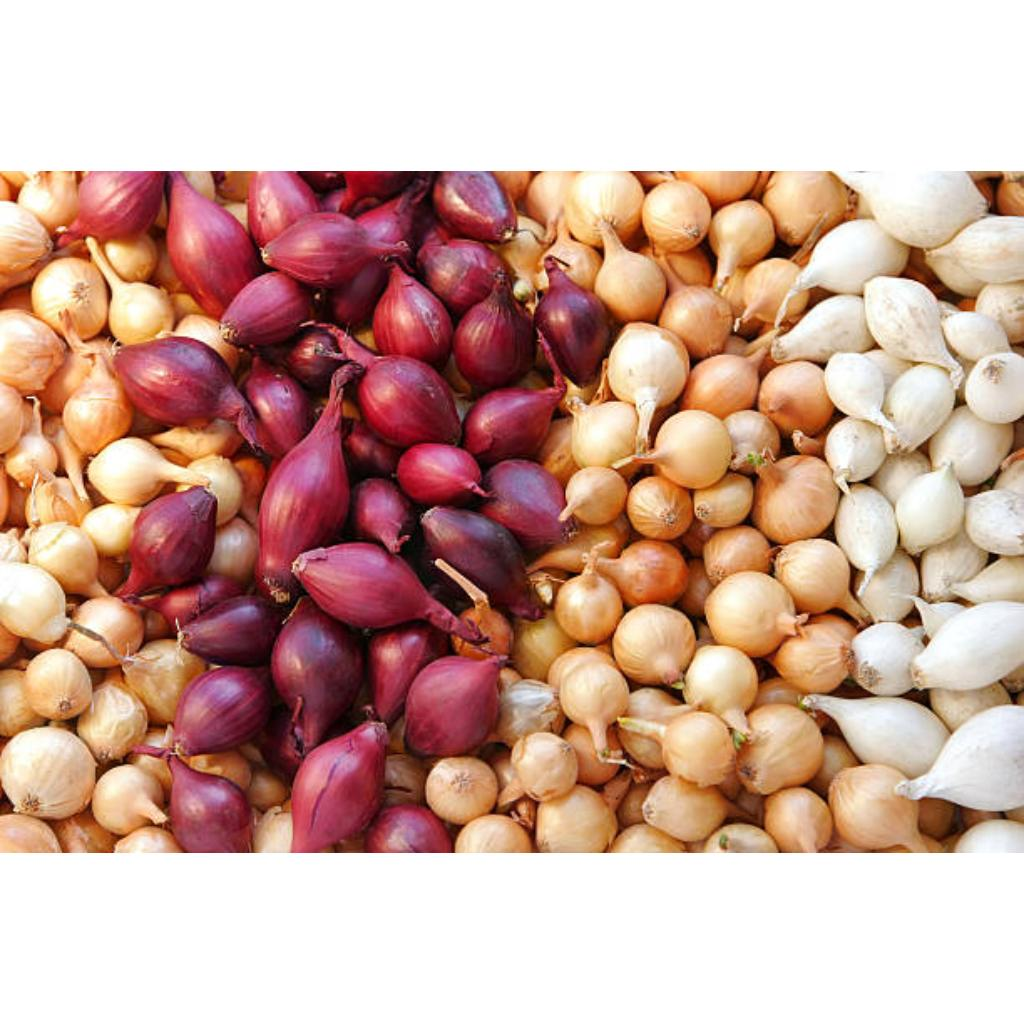Onion: (258, 362, 361, 604), (293, 544, 484, 644), (114, 337, 258, 445), (271, 599, 363, 756), (463, 333, 567, 465), (422, 507, 542, 620), (899, 708, 1024, 813), (169, 171, 258, 317), (291, 723, 388, 854), (805, 698, 952, 779), (837, 171, 989, 247), (115, 487, 218, 599), (261, 211, 408, 287), (607, 322, 691, 453), (867, 278, 965, 388), (407, 658, 504, 759), (453, 270, 535, 389), (535, 256, 609, 386), (917, 603, 1024, 692), (619, 710, 738, 789), (86, 236, 172, 344), (360, 355, 462, 446), (790, 220, 912, 296), (165, 753, 253, 854), (172, 668, 271, 757), (2, 728, 95, 821), (830, 765, 927, 854), (479, 462, 576, 550), (776, 539, 873, 625), (708, 573, 806, 658), (656, 253, 735, 358), (368, 623, 448, 726), (59, 172, 166, 247), (753, 455, 842, 545), (89, 439, 209, 505), (740, 706, 825, 796), (929, 216, 1024, 296), (636, 410, 733, 488), (375, 265, 452, 363), (925, 529, 1024, 604), (596, 220, 668, 322), (770, 614, 860, 695), (837, 484, 900, 599), (62, 353, 132, 455), (773, 293, 875, 363), (243, 357, 313, 458), (562, 661, 629, 766), (932, 405, 1017, 486), (182, 598, 283, 665), (686, 646, 760, 737), (417, 240, 505, 316), (221, 271, 310, 344), (616, 606, 696, 687), (556, 552, 624, 645), (899, 462, 967, 555), (765, 171, 850, 245), (27, 522, 107, 599), (137, 576, 243, 634), (30, 258, 105, 339), (885, 365, 955, 451), (711, 199, 776, 291), (599, 541, 689, 607), (433, 171, 519, 240), (760, 360, 837, 437), (566, 171, 646, 245), (397, 444, 489, 507), (75, 685, 147, 764), (827, 353, 897, 433), (644, 778, 730, 843), (0, 308, 64, 394), (90, 767, 167, 838), (248, 171, 321, 245), (539, 787, 619, 854), (855, 623, 927, 697), (1, 563, 65, 644), (683, 353, 760, 419), (350, 479, 417, 553), (490, 681, 564, 747), (0, 199, 52, 292), (427, 758, 497, 826), (644, 179, 711, 250), (512, 611, 579, 682), (512, 733, 579, 803), (827, 417, 888, 493), (766, 788, 835, 854), (25, 651, 90, 721), (627, 477, 694, 542), (862, 551, 922, 623), (365, 807, 453, 854), (559, 467, 629, 526), (187, 455, 243, 527), (574, 404, 636, 468), (706, 526, 773, 585), (969, 353, 1024, 423), (175, 313, 239, 373), (206, 517, 259, 587), (286, 328, 343, 393), (330, 263, 388, 326), (970, 491, 1024, 557), (17, 171, 77, 230), (945, 312, 1014, 361), (343, 420, 400, 478), (694, 474, 755, 528), (80, 504, 141, 558), (340, 171, 415, 212), (676, 172, 761, 208), (0, 671, 45, 737), (455, 817, 534, 854), (104, 231, 157, 281), (609, 825, 686, 854), (703, 825, 780, 854), (114, 829, 184, 854), (1, 382, 23, 453)
